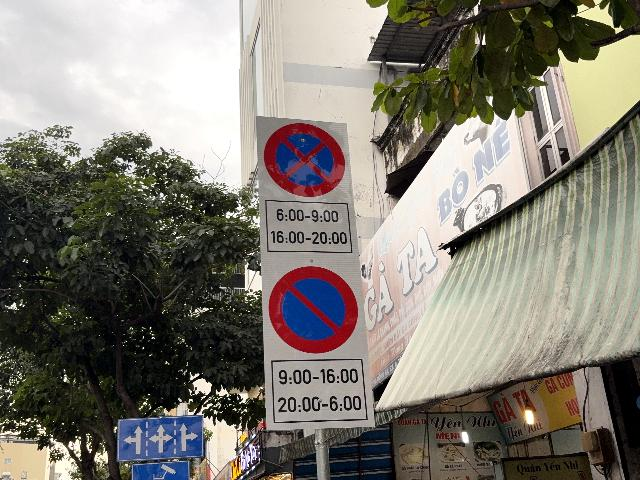cam-do-xe: (269, 265, 358, 355)
cam-dung-va-do-xe: (265, 122, 345, 197)
